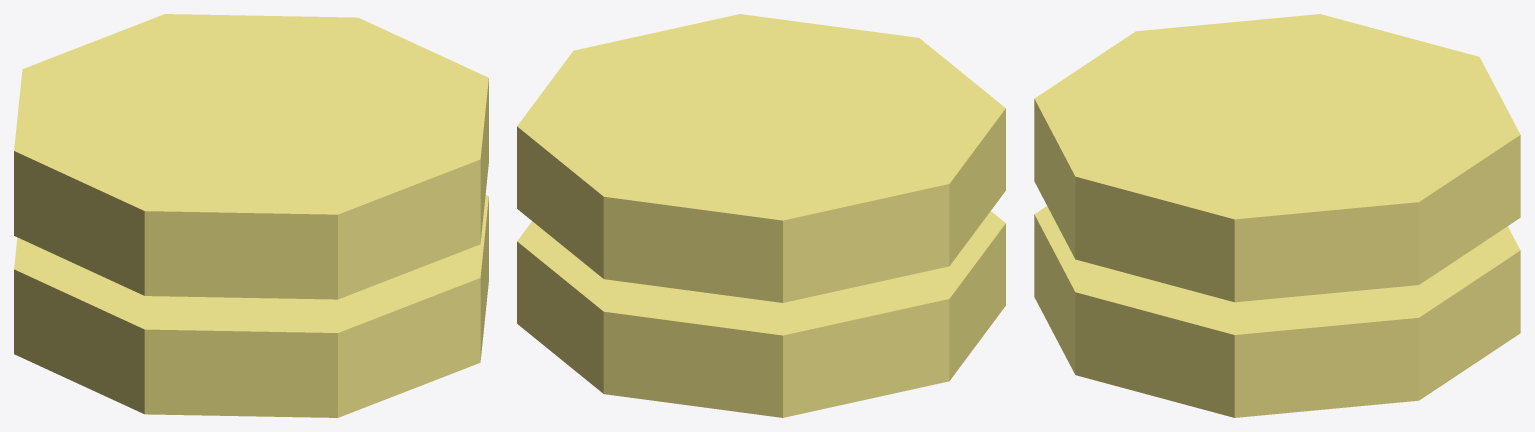
Rendered from Roap for boat 1.001.fbx.
3 renders of one model, left to right at view 1: azimuth 30°, elevation 25°; view 2: azimuth 150°, elevation 25°; view 3: azimuth 270°, elevation 25°, orthographic. The views are drawn at different scales.
Visible parts, largest first — view 1: Roap for boat 1.001; view 2: Roap for boat 1.001; view 3: Roap for boat 1.001.
Boxes of the visible parts, bbox=[...] form: Roap for boat 1.001: bbox=[14, 14, 488, 417]; Roap for boat 1.001: bbox=[517, 14, 1005, 417]; Roap for boat 1.001: bbox=[1034, 14, 1520, 417].
Bounding box in the file's own units: 38.85 × 17.51 × 38.85.
